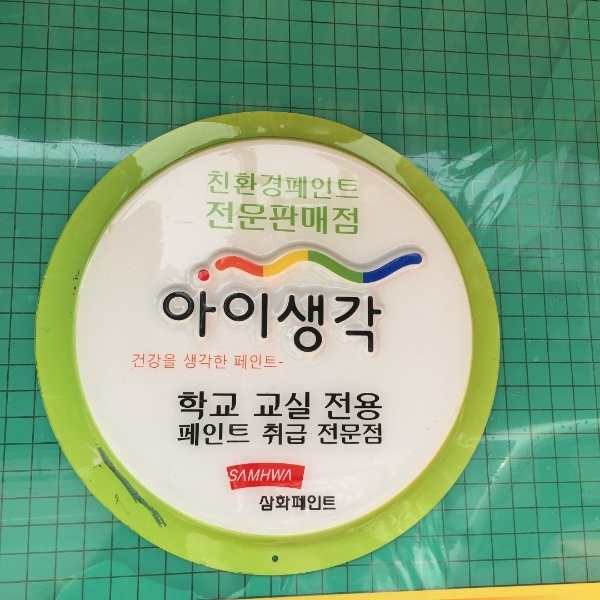text: (177, 290, 192, 357), (193, 290, 208, 357), (209, 290, 224, 357), (225, 290, 240, 357), (241, 290, 256, 357), (257, 290, 272, 357), (273, 290, 288, 357), (289, 290, 304, 357), (305, 290, 320, 357), (321, 290, 336, 357), (337, 290, 352, 357), (353, 290, 368, 357), (162, 290, 176, 357), (369, 290, 383, 357), (209, 201, 224, 238), (225, 201, 240, 238), (241, 201, 256, 238), (257, 201, 272, 238), (273, 201, 288, 238), (289, 201, 304, 238), (305, 201, 320, 238), (321, 201, 336, 238), (337, 201, 352, 238), (209, 170, 224, 203), (225, 170, 240, 203), (241, 170, 256, 203), (257, 170, 272, 203), (273, 170, 288, 203), (289, 170, 304, 203), (305, 170, 320, 203), (321, 170, 336, 203), (337, 170, 352, 203), (193, 391, 208, 423), (209, 391, 224, 423), (225, 391, 240, 423), (337, 392, 352, 423), (353, 392, 368, 423), (178, 391, 192, 423), (369, 392, 383, 423), (257, 392, 272, 420), (273, 392, 288, 420), (289, 392, 304, 420), (193, 422, 208, 447), (209, 422, 224, 447), (225, 422, 240, 447), (324, 392, 336, 423), (178, 422, 192, 447), (273, 423, 288, 446), (289, 423, 304, 446), (321, 423, 336, 445), (337, 423, 352, 445), (353, 423, 368, 445), (369, 423, 382, 445), (321, 495, 337, 512), (353, 170, 361, 203), (273, 495, 288, 512), (289, 495, 304, 512), (305, 495, 320, 512), (241, 422, 251, 447), (161, 354, 177, 369), (193, 354, 208, 370), (209, 354, 224, 370), (241, 354, 256, 370), (257, 354, 272, 370), (145, 354, 160, 369), (353, 201, 359, 238), (259, 495, 272, 512), (263, 423, 272, 446), (241, 469, 256, 482), (257, 469, 272, 482), (273, 469, 288, 482), (273, 354, 284, 370), (305, 392, 311, 420), (133, 354, 144, 369), (230, 469, 240, 482), (184, 354, 192, 370), (234, 354, 240, 370), (305, 423, 309, 446), (254, 392, 256, 420), (289, 469, 293, 482), (225, 354, 228, 370), (318, 423, 320, 445), (207, 201, 208, 238), (207, 170, 208, 203)
